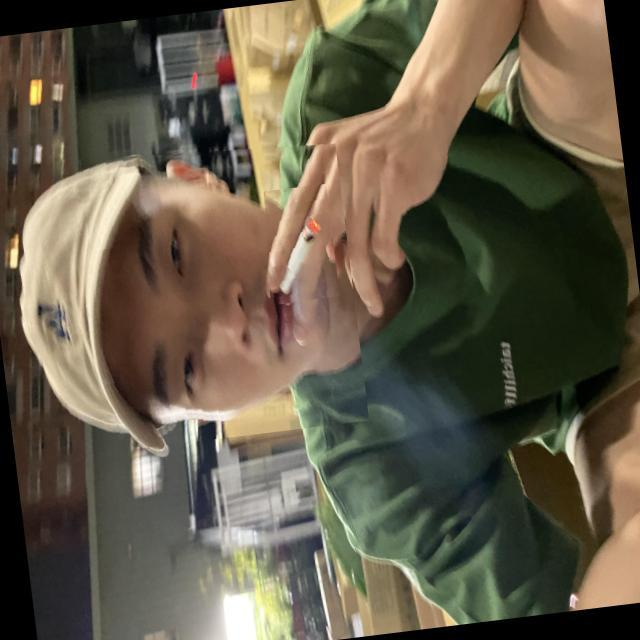cigarette: (256, 184, 340, 306)
